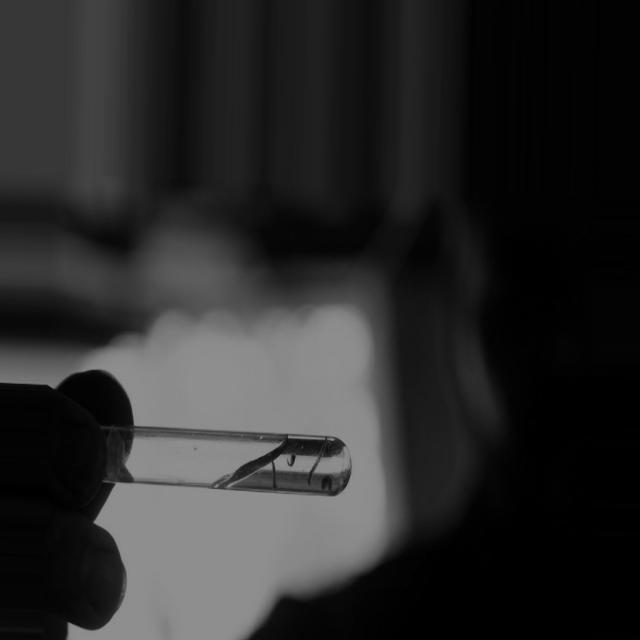larvas: (308, 438, 327, 482), (270, 460, 278, 493), (287, 452, 297, 470), (322, 473, 332, 491)
